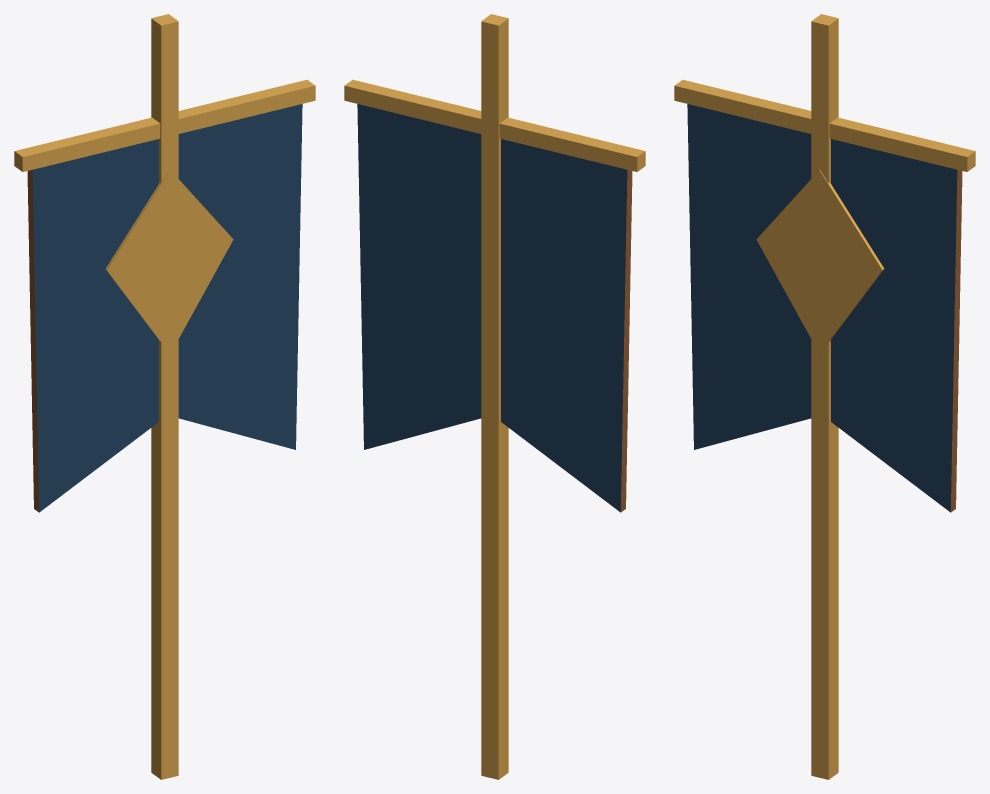
File: standard.glb
3 views of the same model, side by side, from view 1: azimuth 30°, elevation 25°; view 2: azimuth 150°, elevation 25°; view 3: azimuth 330°, elevation 25° (orthographic).
Visible parts, largest first — view 1: Azure_swallowtail, Standard_staff, Dawn_sigil, Standard_crossbar; view 2: Azure_swallowtail, Standard_staff, Standard_crossbar; view 3: Azure_swallowtail, Standard_staff, Dawn_sigil, Standard_crossbar.
Part boxes in pixels (x1,y1,x2,y2): Azure_swallowtail: [27, 104, 302, 512]; Standard_staff: [151, 14, 178, 779]; Dawn_sigil: [105, 170, 233, 353]; Standard_crossbar: [14, 79, 315, 171]; Azure_swallowtail: [357, 104, 632, 512]; Standard_staff: [481, 14, 508, 779]; Standard_crossbar: [344, 79, 645, 171]; Azure_swallowtail: [687, 104, 962, 512]; Standard_staff: [811, 14, 838, 779]; Dawn_sigil: [756, 170, 884, 353]; Standard_crossbar: [674, 79, 975, 171].
Bounding box in the file's own units: 1.3 × 3.2 × 0.0814.
